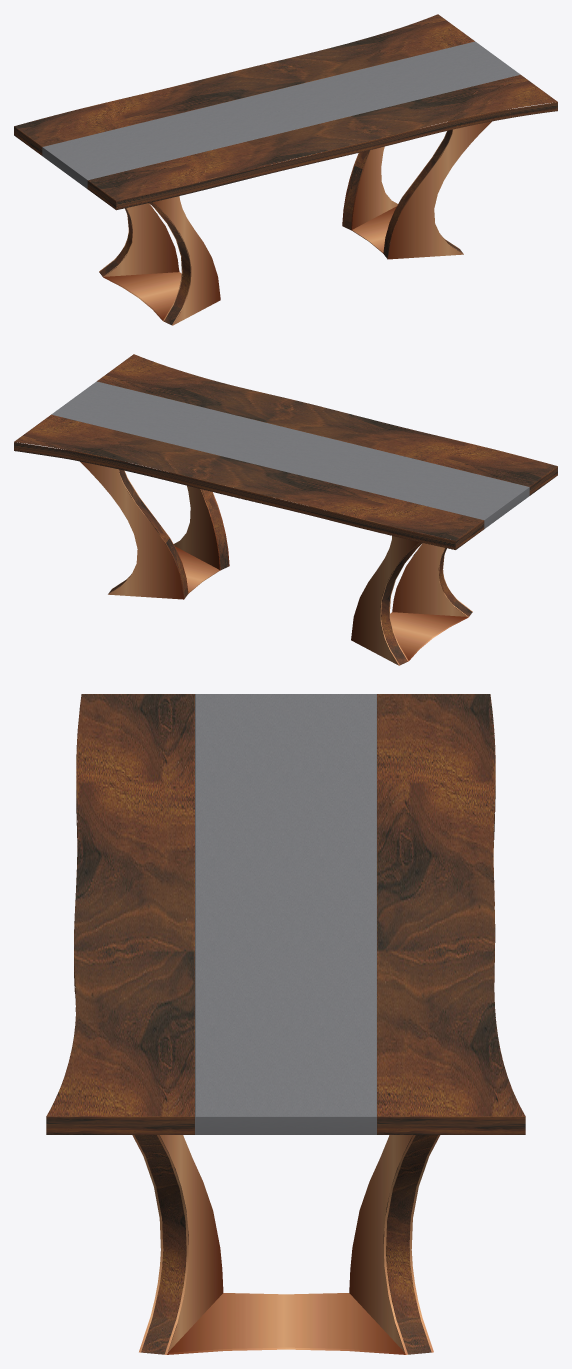
Rendered from apis.gltf.
3 renders of one model, top to bottom at view 1: azimuth 30°, elevation 25°; view 2: azimuth 150°, elevation 25°; view 3: azimuth 270°, elevation 25°, orthographic. The views are drawn at different scales.
Parts seen in each view (by area): view 1: mesh_16; view 2: mesh_16; view 3: mesh_16.
Boxes of the visible parts, box(x1,y1,x2,y2) form: mesh_16: box(14, 14, 557, 325); mesh_16: box(14, 354, 557, 665); mesh_16: box(46, 694, 525, 1354).
Size of the model in its own units: 220 by 74 by 106.
3 materials, 3 textured.
